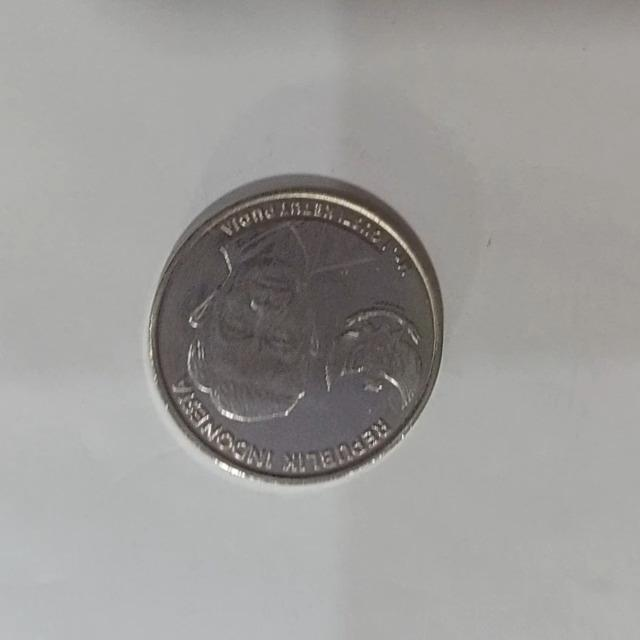Rp100: (145, 174, 445, 486)
